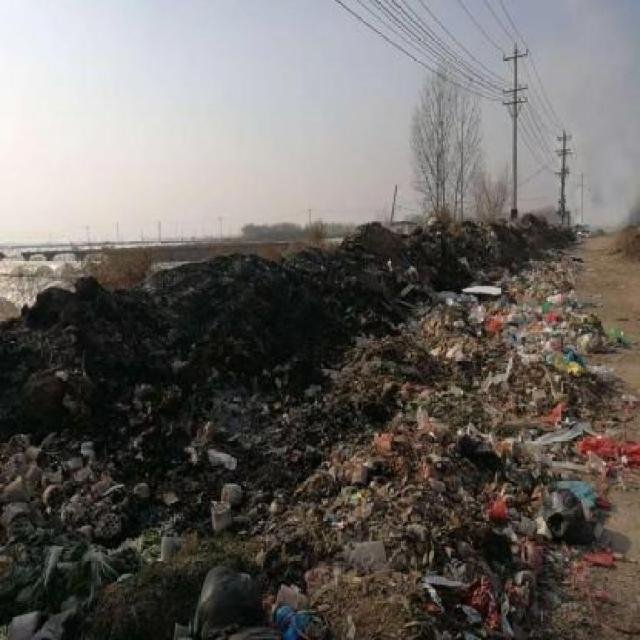garbage: (17, 293, 598, 640), (167, 248, 586, 290), (358, 212, 594, 258)
